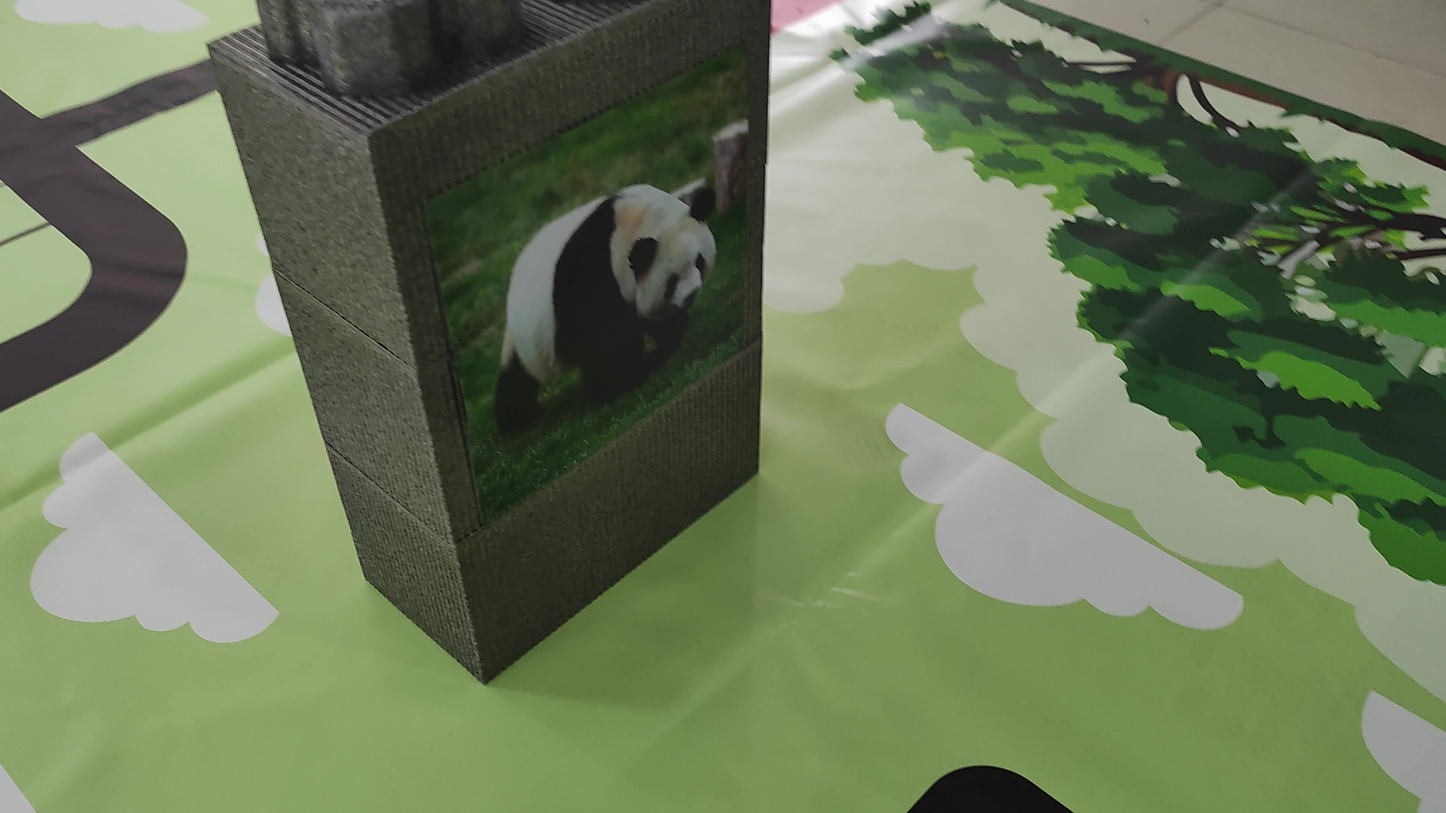panda: (455, 160, 758, 419)
